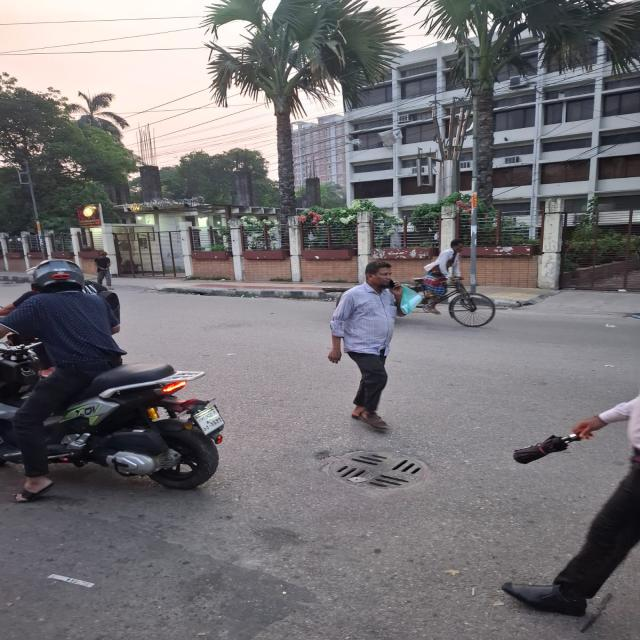person: (327, 260, 405, 430)
